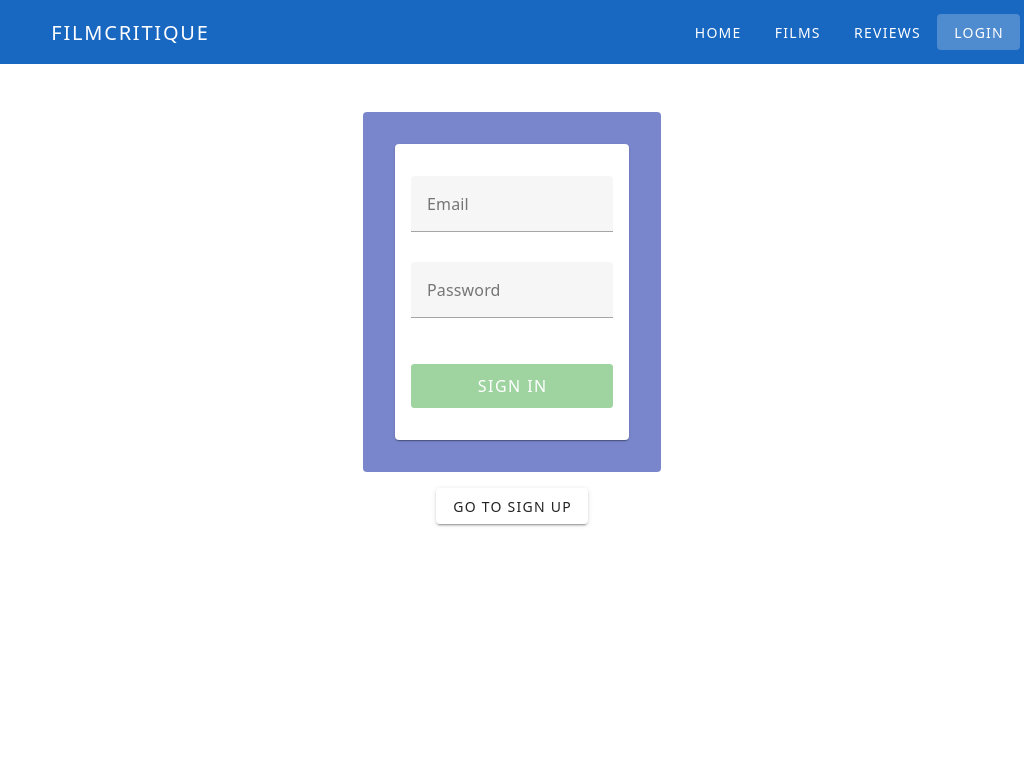
it: Logout Flow › logs out the user and redirects to home
In the element with test id "email": [512, 215] box [411,176,613,254], type "cypress@gmail.com"
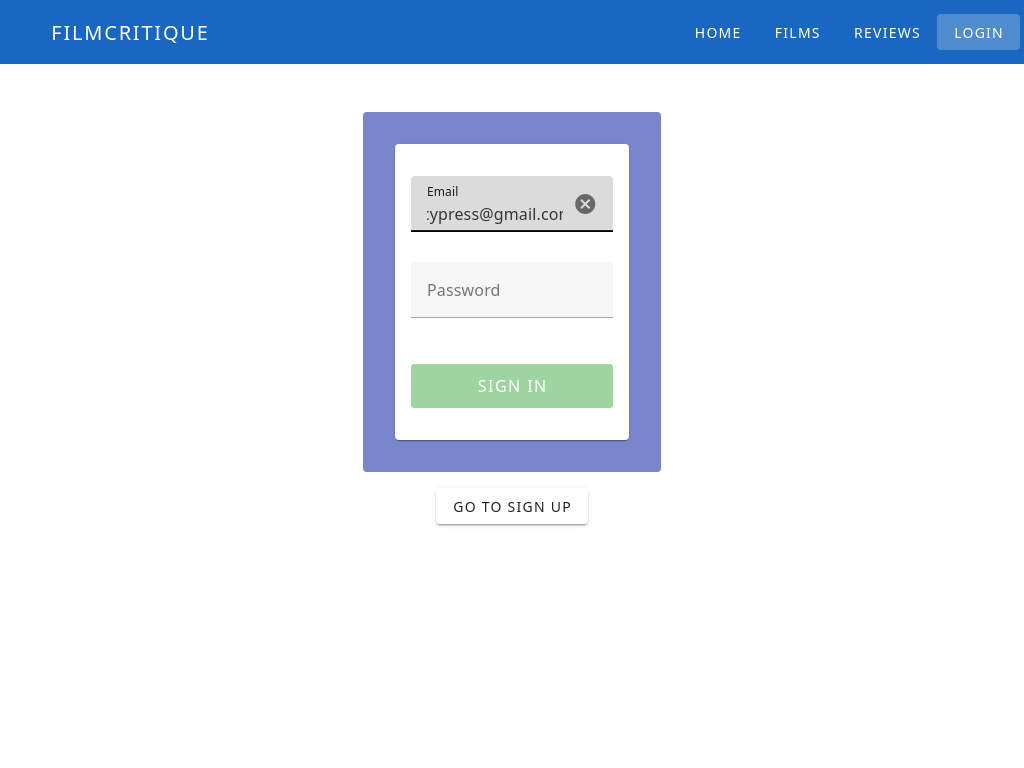
In the element with test id "password": [512, 301] box [411,262,613,340], type "1234"
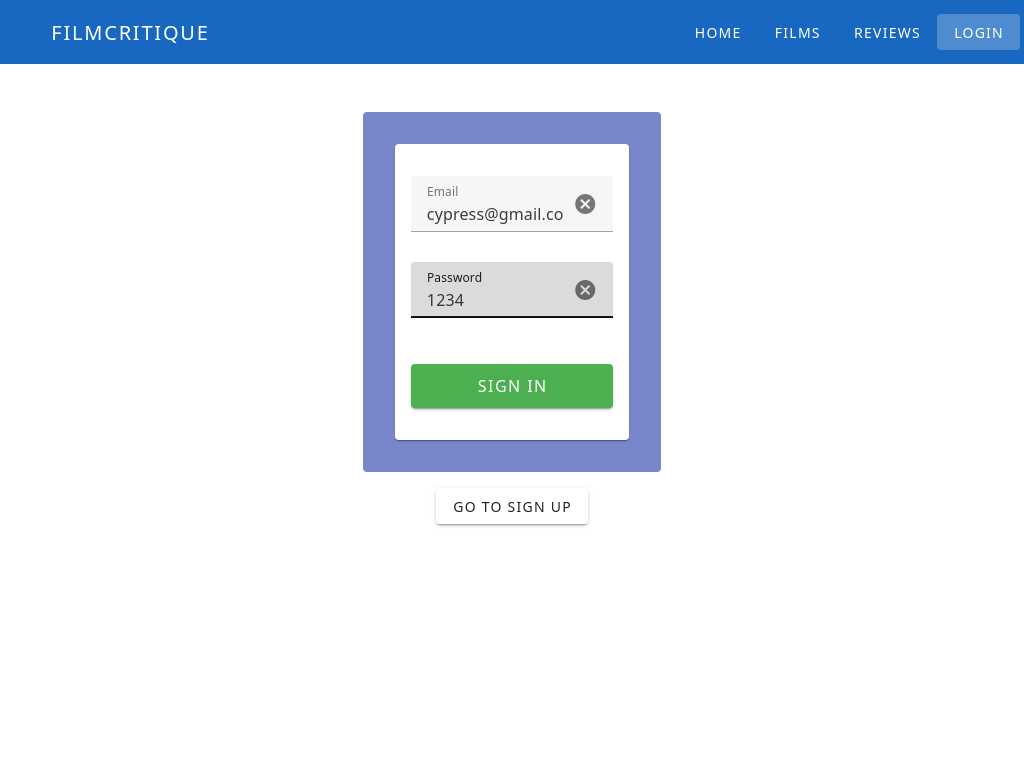
Click the button with test id "login-btn": [512, 386] box [411,364,613,408]
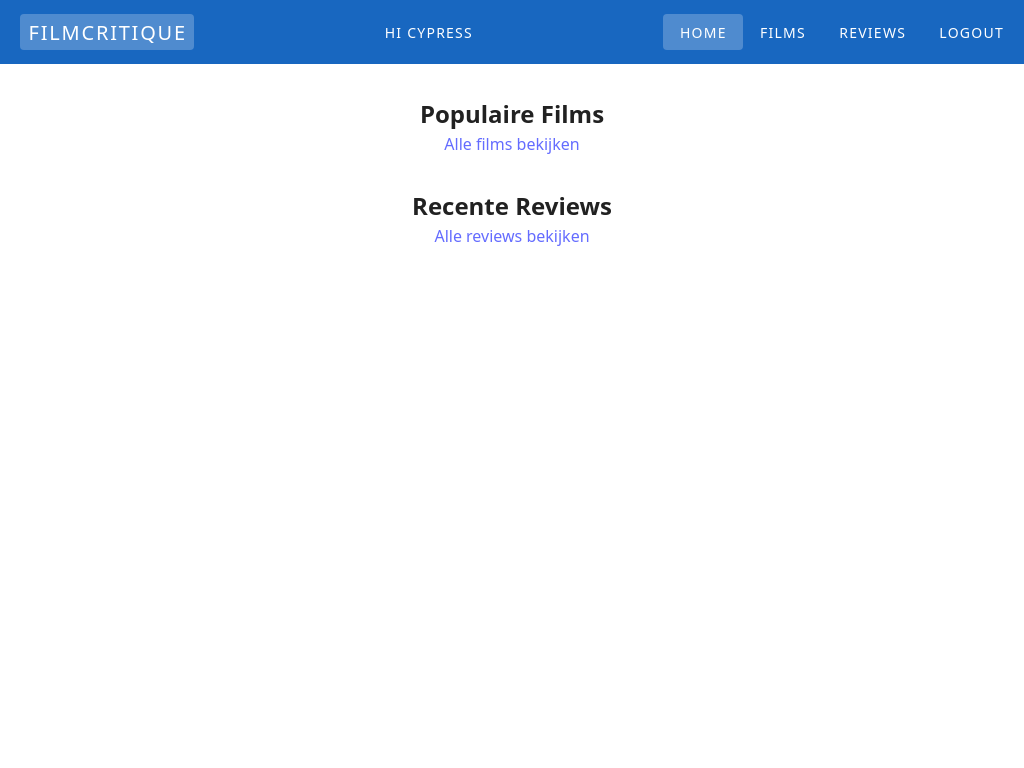
Click the button with test id "logout-btn": [971, 32] box [922,14,1020,50]
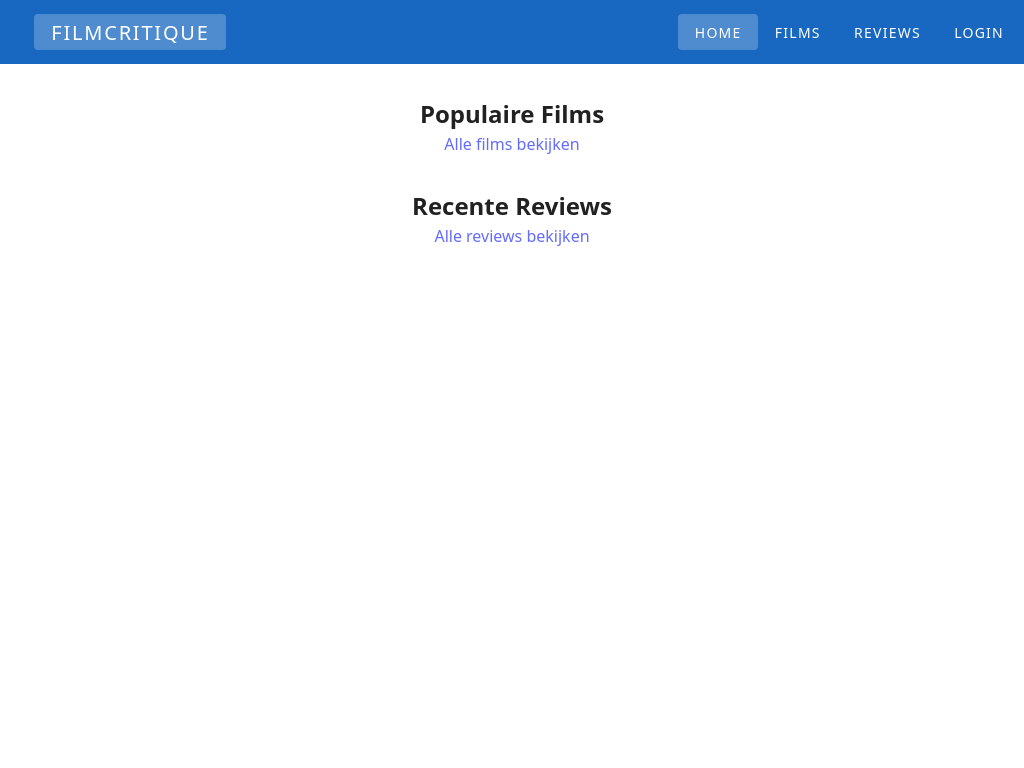
Expected: the link "Login" is shown, [937,14,1020,50]
